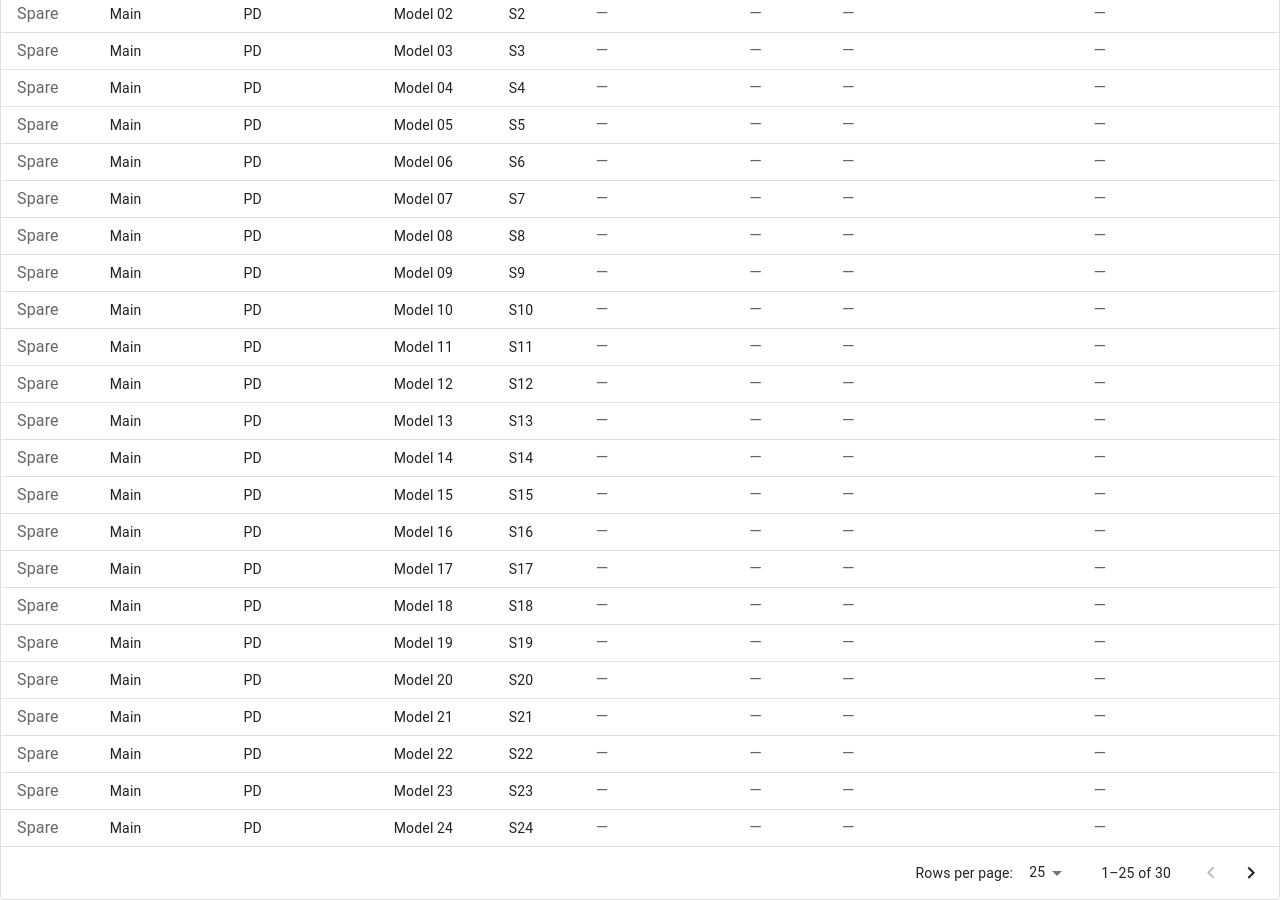
Test: GearGrid › pagination › shows 25 rows a page and moves between pages
(page scrolled)
Expected: the text "1–25 of 30" is shown, 1101,863 -> 1171,883
Click the button named "Go to next page" at (1251, 873), box 1231,853 -> 1271,893
(page scrolled)
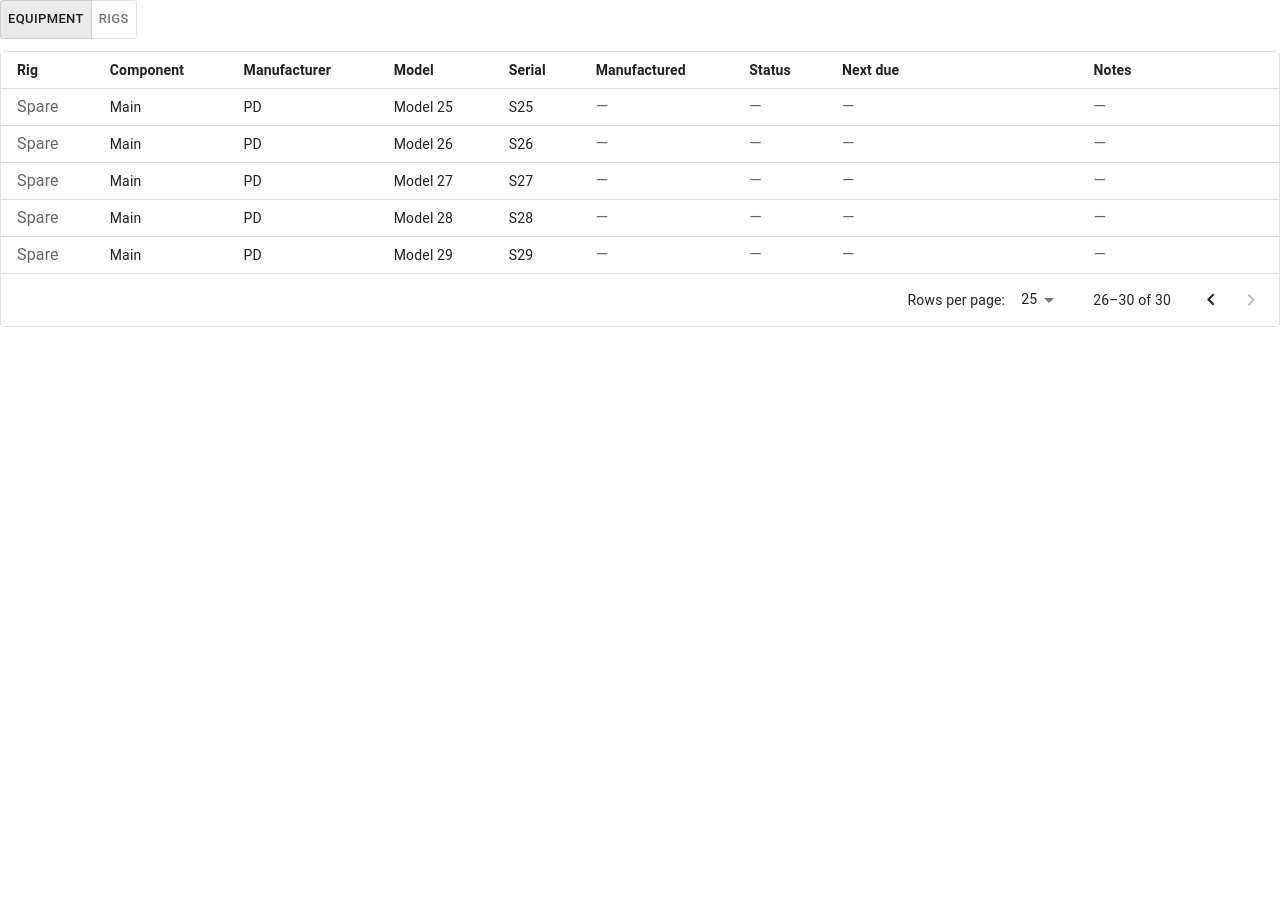
Now the text "26–30 of 30" is shown, box 1093,290 -> 1171,310
Now the link "Model 25" is shown, box 394,99 -> 453,115
